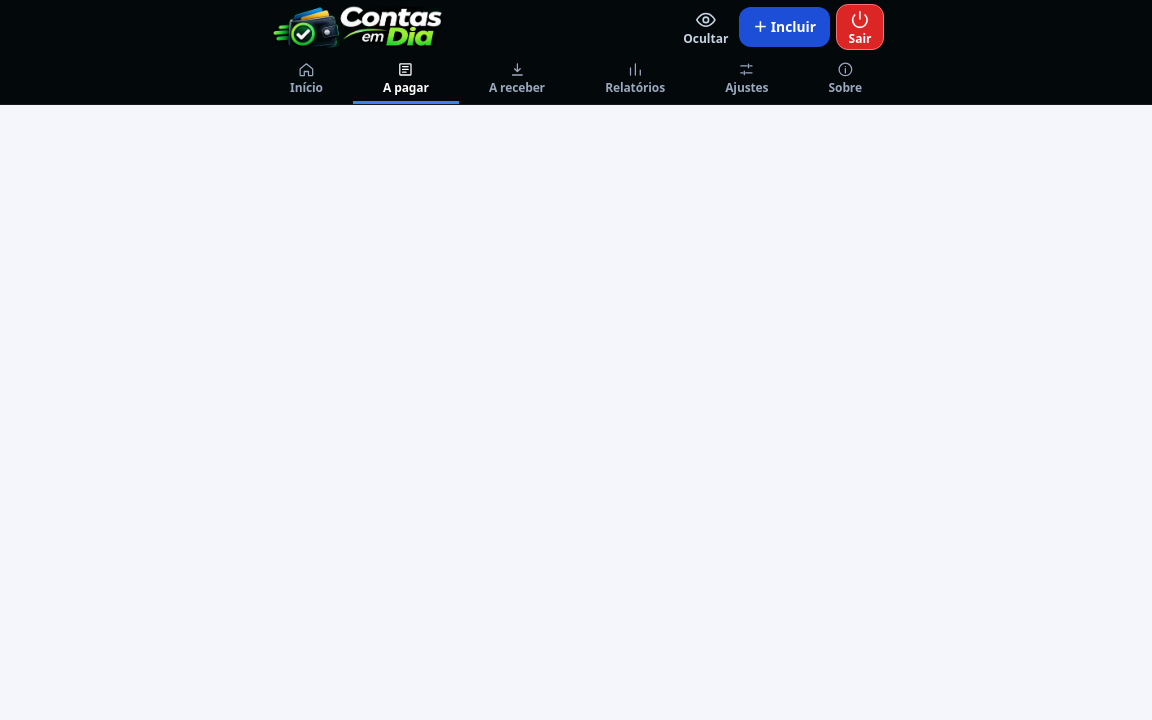
Test: Cabeçalho do app › o botão Incluir oferece conta a pagar e valor a receber, nesta ordem fora de "A receber"
Click the button "＋ Incluir": (785, 27) x1=739 y1=7 x2=830 y2=47
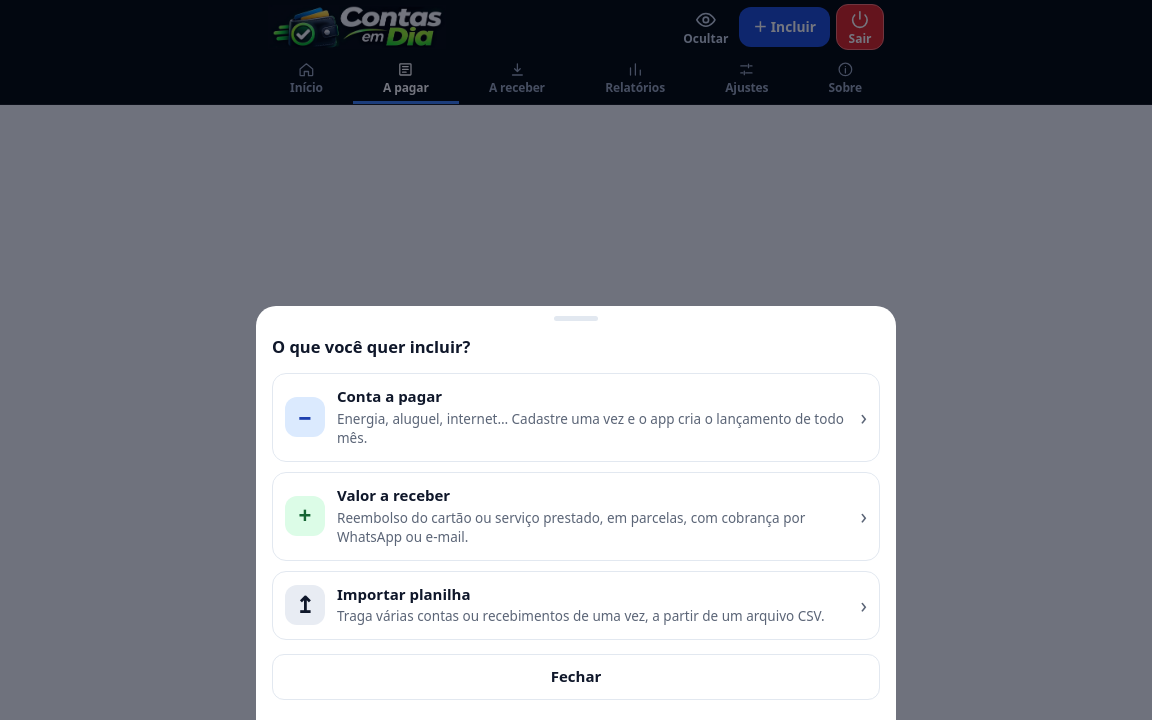
Click the button "Fechar": (576, 677) x1=272 y1=654 x2=880 y2=700
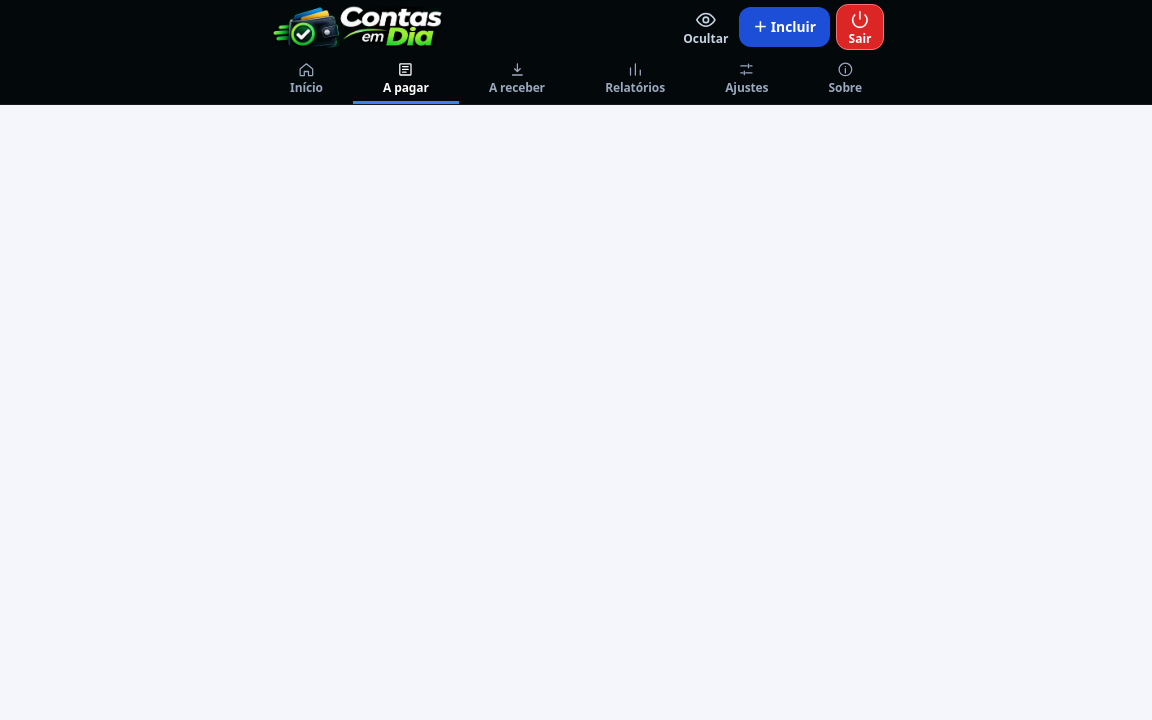
Expected: the dialog is gone
